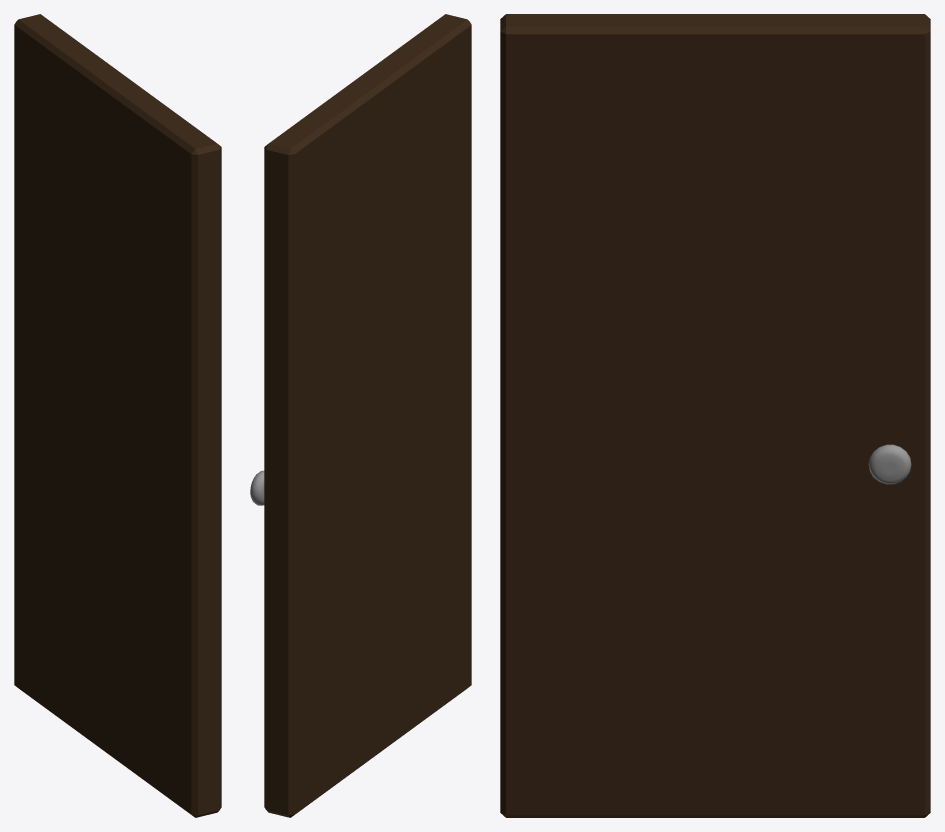
File: Door.FBX
3 views of the same model, side by side, from view 1: azimuth 30°, elevation 25°; view 2: azimuth 150°, elevation 25°; view 3: azimuth 270°, elevation 25° (orthographic). The views are drawn at different scales.
Visible parts, largest first — view 1: Object003; view 2: Object003; view 3: Object003.
Part boxes in pixels (x1,y1,x2,y2): Object003: [14, 14, 221, 817]; Object003: [250, 14, 471, 817]; Object003: [500, 14, 930, 817].
Bounding box in the file's own units: 5.66 × 68.54 × 33.77.
